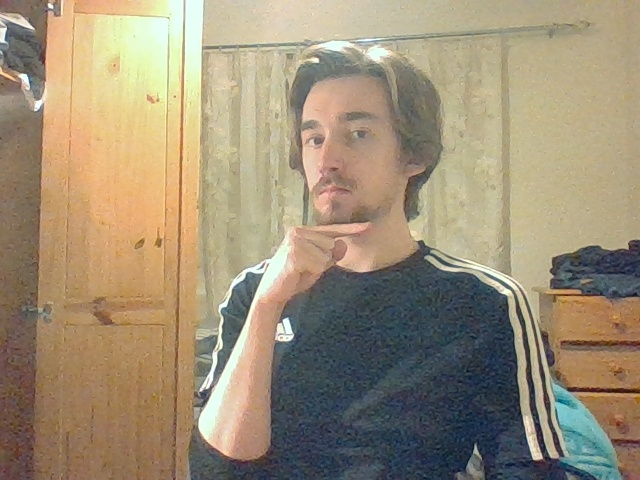son: (277, 219, 374, 289)
